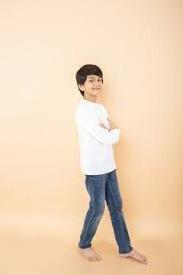Human: (55, 63, 153, 271)
